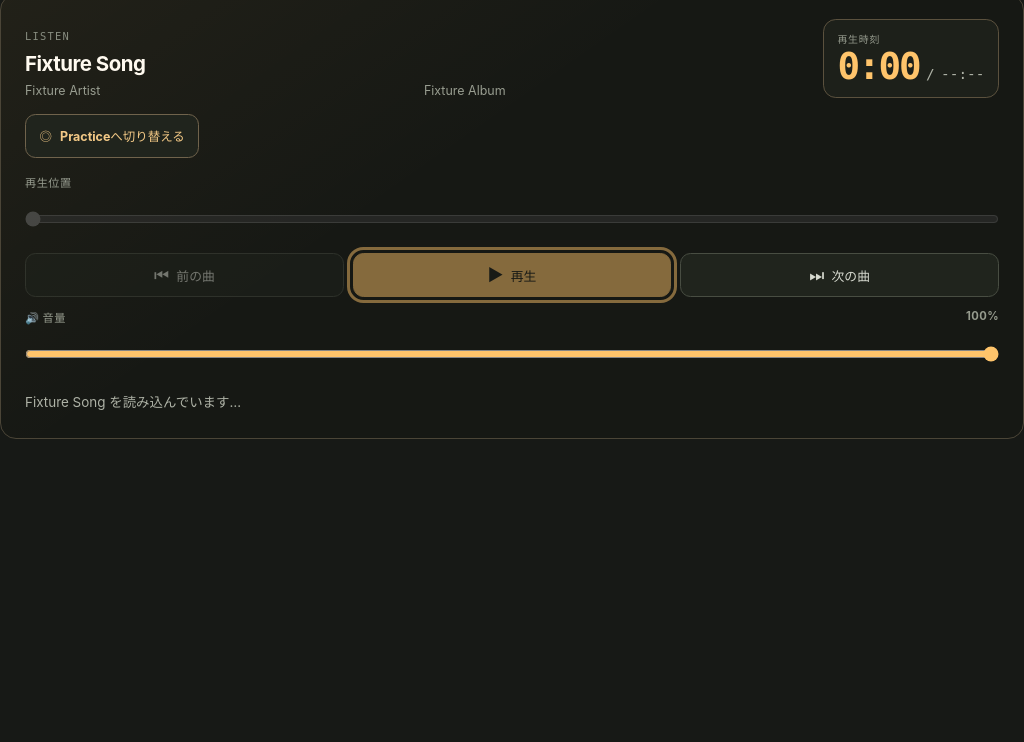
Scenario: ListenPlayer › does not surface a Marker load that settles after Practice unmount
Click the button "◎ Practiceへ切り替える" at (112, 136), box [25,114,199,158]
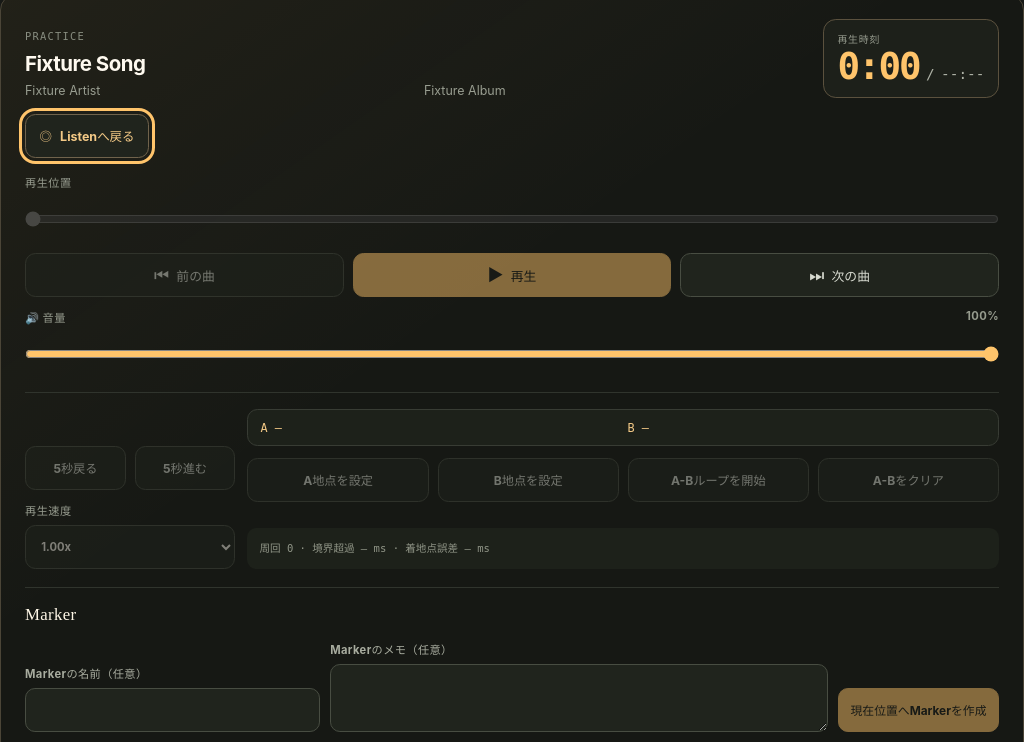
Click the button "◎ Listenへ戻る" at (87, 136), box [25,114,149,158]
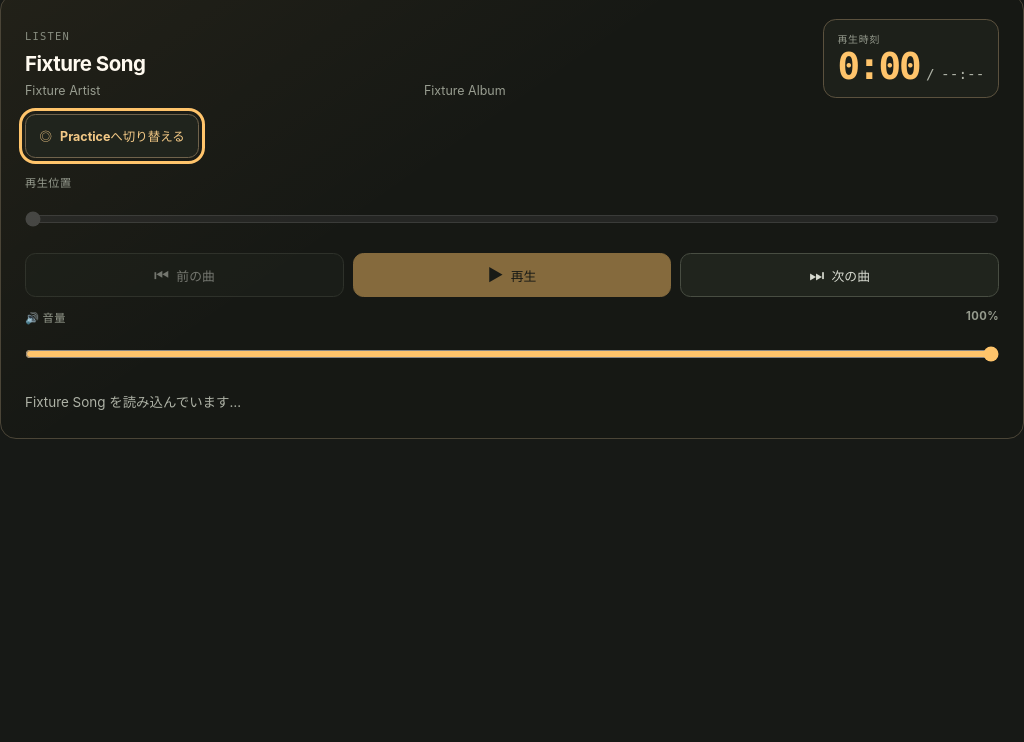
Result: the heading "Marker" is gone
Click the button "◎ Practiceへ切り替える" at (112, 136), box [25,114,199,158]
(page scrolled)
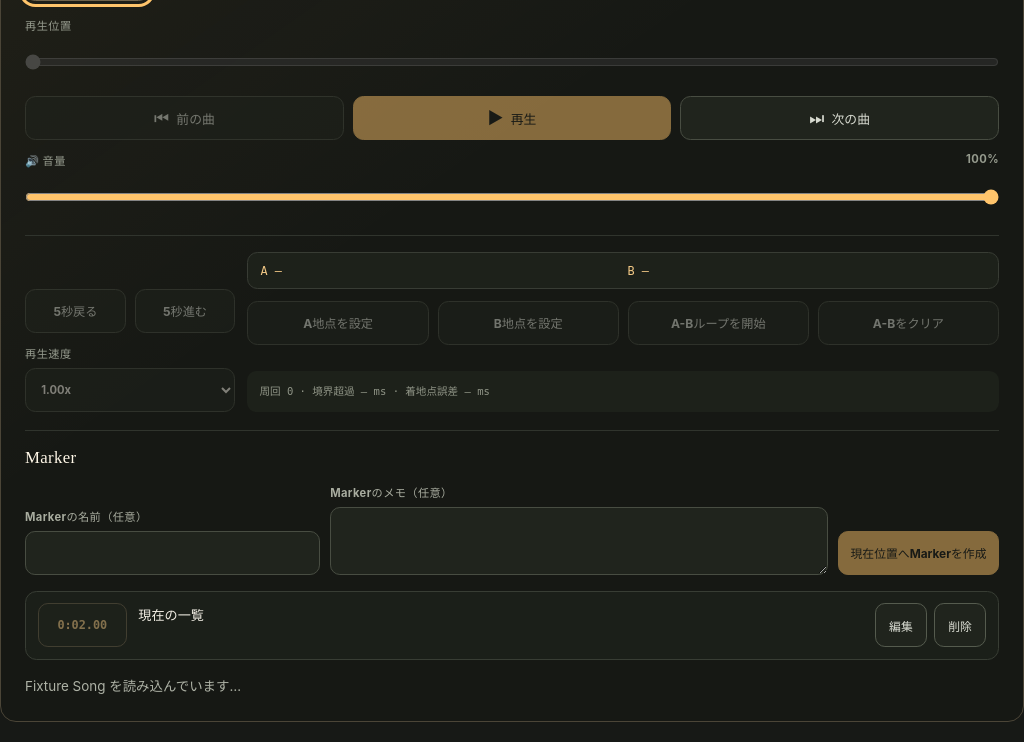
Result: the text "現在の一覧" is shown at [138,607,204,623]
